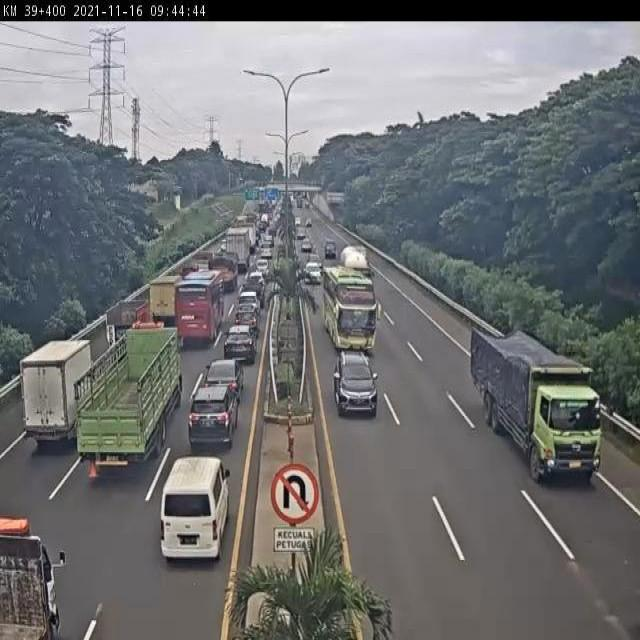big bus: (322, 264, 379, 359), (176, 273, 225, 344)
car: (331, 348, 380, 419), (188, 386, 236, 451), (204, 361, 245, 403), (221, 329, 253, 368), (232, 308, 259, 335), (236, 288, 261, 316)
small bus: (160, 458, 229, 558)
small truck: (146, 276, 180, 332)
truck-l-: (471, 328, 603, 487), (79, 329, 181, 468)
truck-m-: (22, 337, 95, 443), (105, 300, 152, 343)
